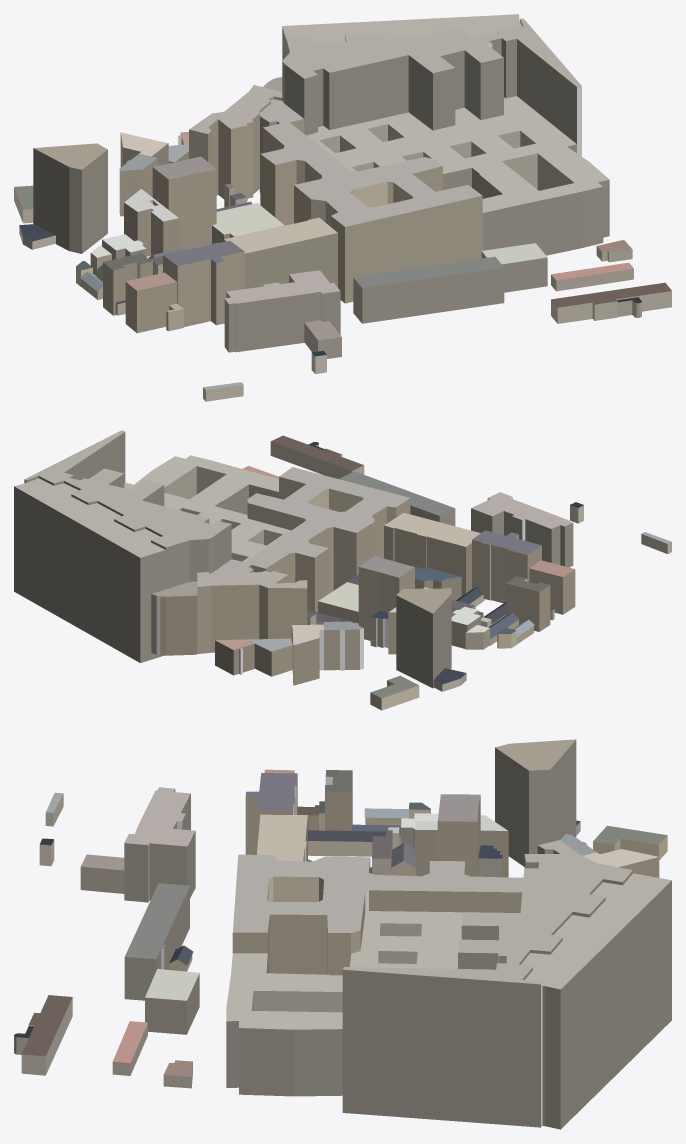
3 views of the same model, one above another, from view 1: azimuth 30°, elevation 25°; view 2: azimuth 150°, elevation 25°; view 3: azimuth 270°, elevation 25° (orthographic). The views are drawn at different scales.
Visible parts, largest first — view 1: tuile; view 2: tuile; view 3: tuile.
Part boxes in pixels (x1,y1,x2,y2): tuile: [14, 14, 671, 401]; tuile: [14, 430, 671, 710]; tuile: [14, 739, 671, 1129].
Size of the model in its own units: 274 by 60.23 by 251.
